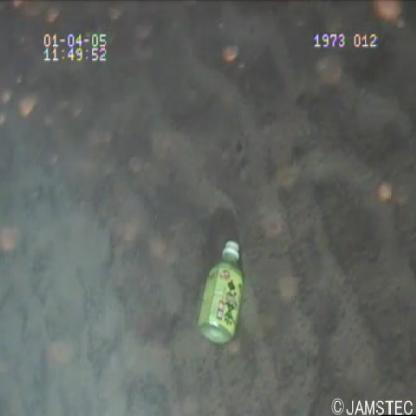Rác: (195, 236, 257, 356)
